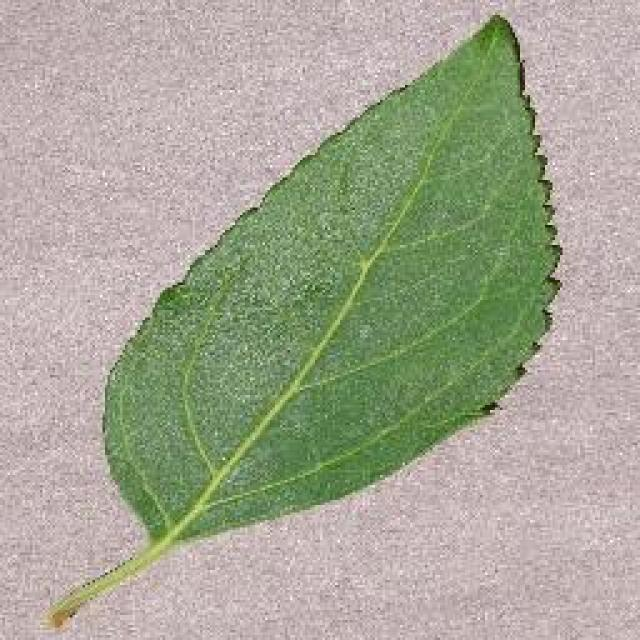Cher_including_sour_healthy: (157, 64, 588, 498)
